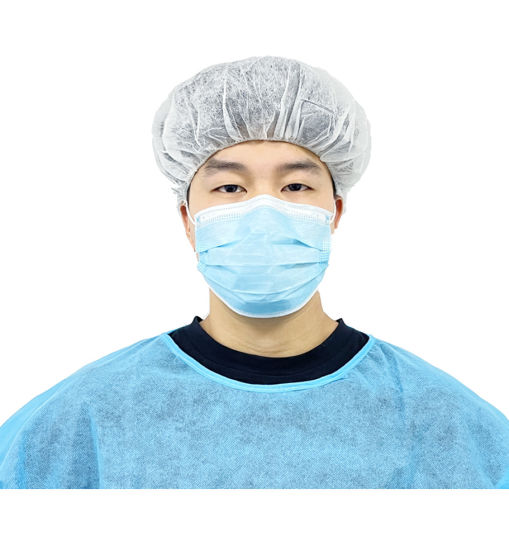with_mask_and_cap: (171, 59, 350, 318)
